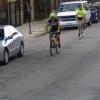bicycles: (46, 30, 61, 57)
